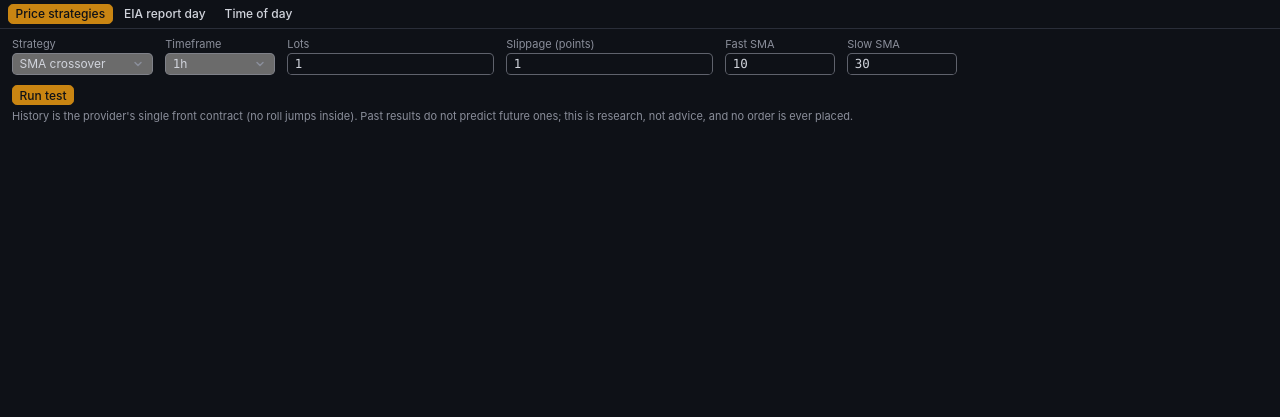
Test: the Strategy tester panel has a Time of day tab
Click the button "Time of day". click: (258,14)
box: [217,4,300,24]
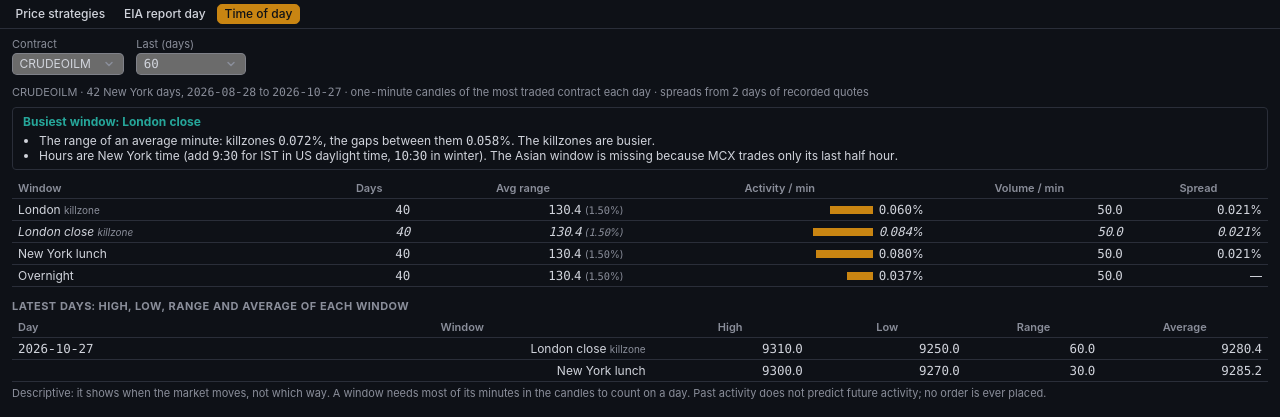
Check: the text "Busiest window: London close" is shown, box [23,114,201,129]
